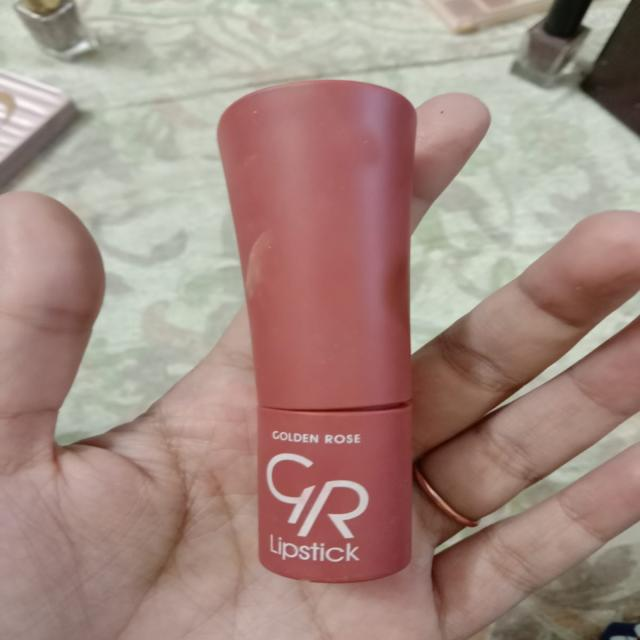lip stick: (193, 63, 461, 595)
